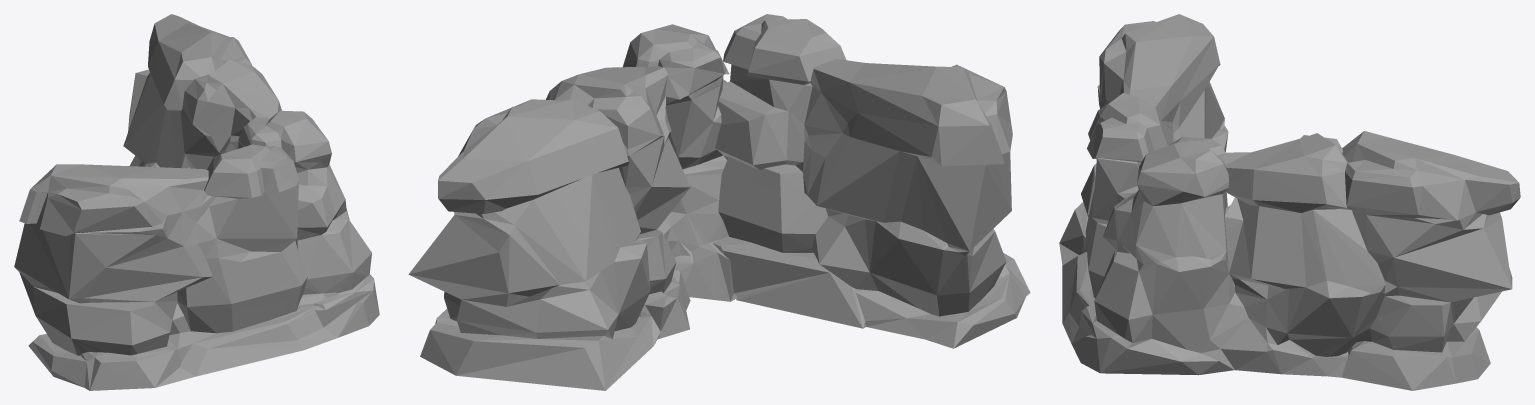
Rendered from rock__rockform_corner_hard_light.glb.
3 renders of one model, left to right at view 1: azimuth 30°, elevation 25°; view 2: azimuth 150°, elevation 25°; view 3: azimuth 270°, elevation 25°, orthographic. The views are drawn at different scales.
Parts seen in each view (by area): view 1: rockform.corner.hard.light; view 2: rockform.corner.hard.light; view 3: rockform.corner.hard.light.
Boxes of the visible parts, x1,y1,x2,y2 form: rockform.corner.hard.light: [14, 14, 379, 390]; rockform.corner.hard.light: [408, 14, 1030, 390]; rockform.corner.hard.light: [1059, 14, 1520, 390].
Bounding box in the file's own units: 30.34 × 15.39 × 31.3.
Materials: 1 (1 with a texture image).
